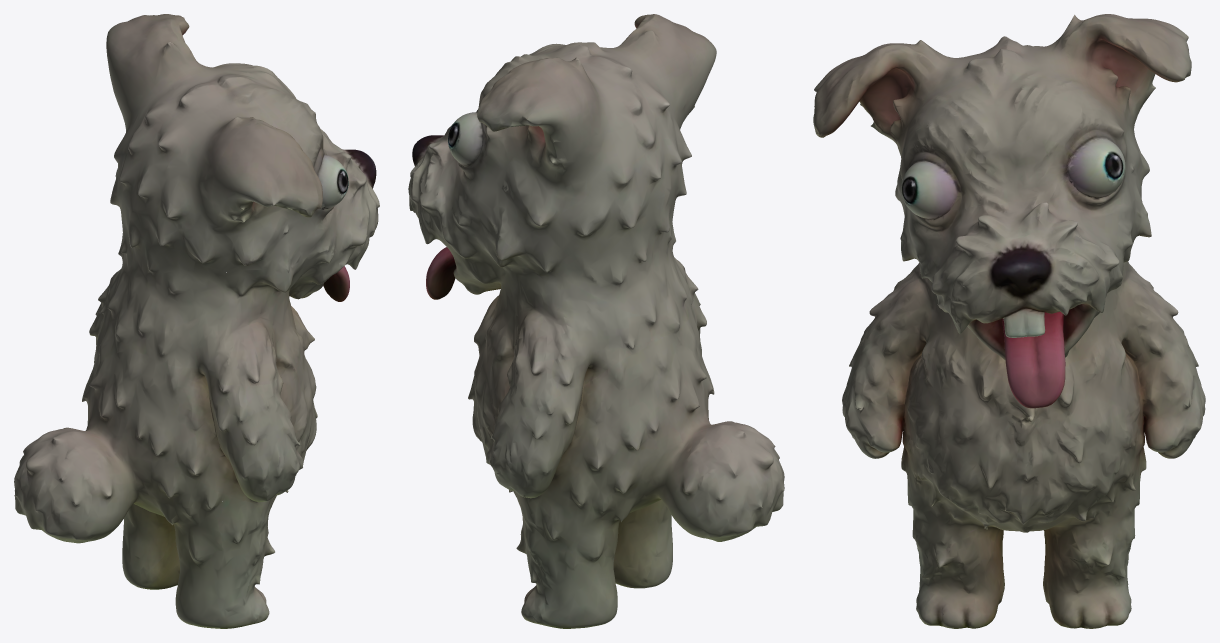
Rendered from dog.glb.
3 views of the same model, side by side, from view 1: azimuth 30°, elevation 25°; view 2: azimuth 150°, elevation 25°; view 3: azimuth 270°, elevation 25° (orthographic). The views are drawn at different scales.
Visible parts, largest first — view 1: tripo_node_6a70a410-7dae-4be2-8752-e79718502364; view 2: tripo_node_6a70a410-7dae-4be2-8752-e79718502364; view 3: tripo_node_6a70a410-7dae-4be2-8752-e79718502364.
Boxes of the visible parts, box(x1,y1,x2,y2) form: tripo_node_6a70a410-7dae-4be2-8752-e79718502364: box(14, 14, 379, 628); tripo_node_6a70a410-7dae-4be2-8752-e79718502364: box(408, 14, 784, 628); tripo_node_6a70a410-7dae-4be2-8752-e79718502364: box(813, 14, 1205, 628).
Bounding box in the file's own units: 0.6551 × 0.979 × 0.5798.
Materials: 1 (1 with a texture image).
